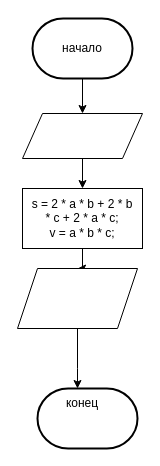
The diagram is 160 pixels wide and 466 high, and some of its shapes have lost their labels. Each missing label, with the box of its shape:
ввод a,b,c с проверкой: (22, 112, 142, 158)
вывод v s: (16, 268, 138, 328)
